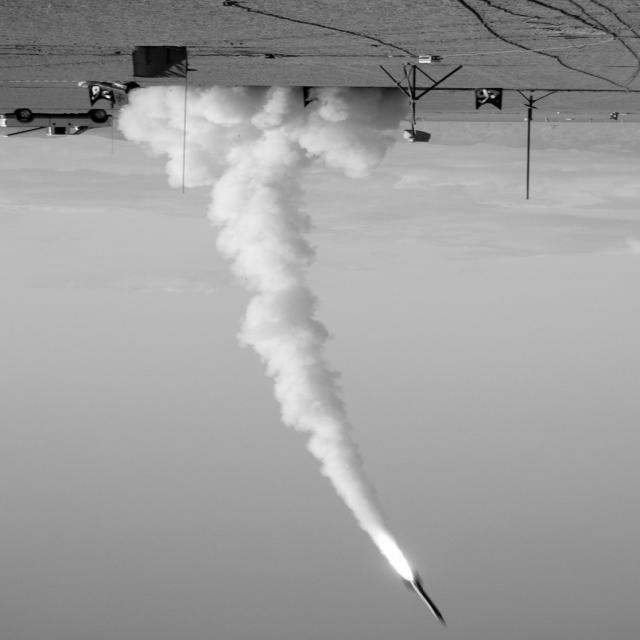missile: (400, 572, 452, 630)
